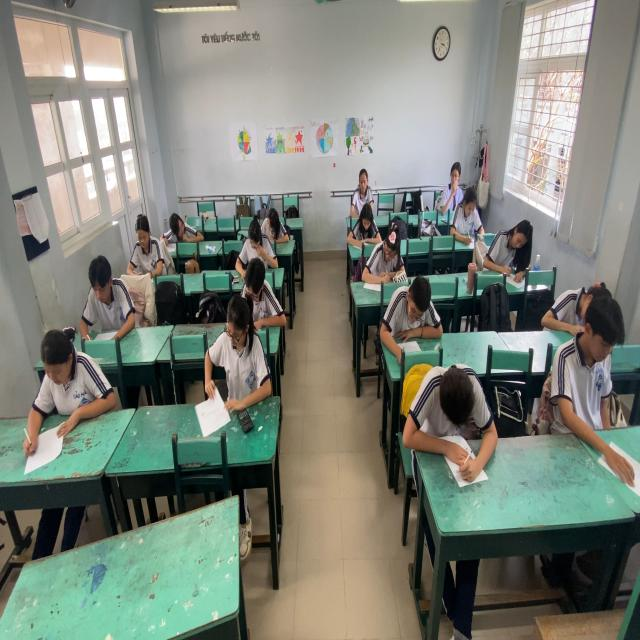cheating: (163, 198, 198, 257), (260, 200, 286, 249)
not_cheating: (552, 290, 629, 470), (409, 357, 488, 485), (33, 325, 103, 447), (212, 290, 266, 411), (76, 240, 129, 344), (382, 266, 434, 354), (478, 217, 532, 290), (548, 265, 598, 330), (123, 204, 163, 282), (233, 257, 280, 321), (449, 182, 488, 248), (361, 216, 398, 284), (238, 217, 281, 273), (343, 196, 378, 242), (440, 157, 464, 203), (351, 165, 377, 206)
